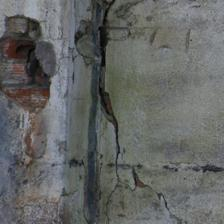Crack: (117, 27, 215, 81), (55, 94, 113, 130), (7, 71, 65, 97), (49, 69, 78, 119)
